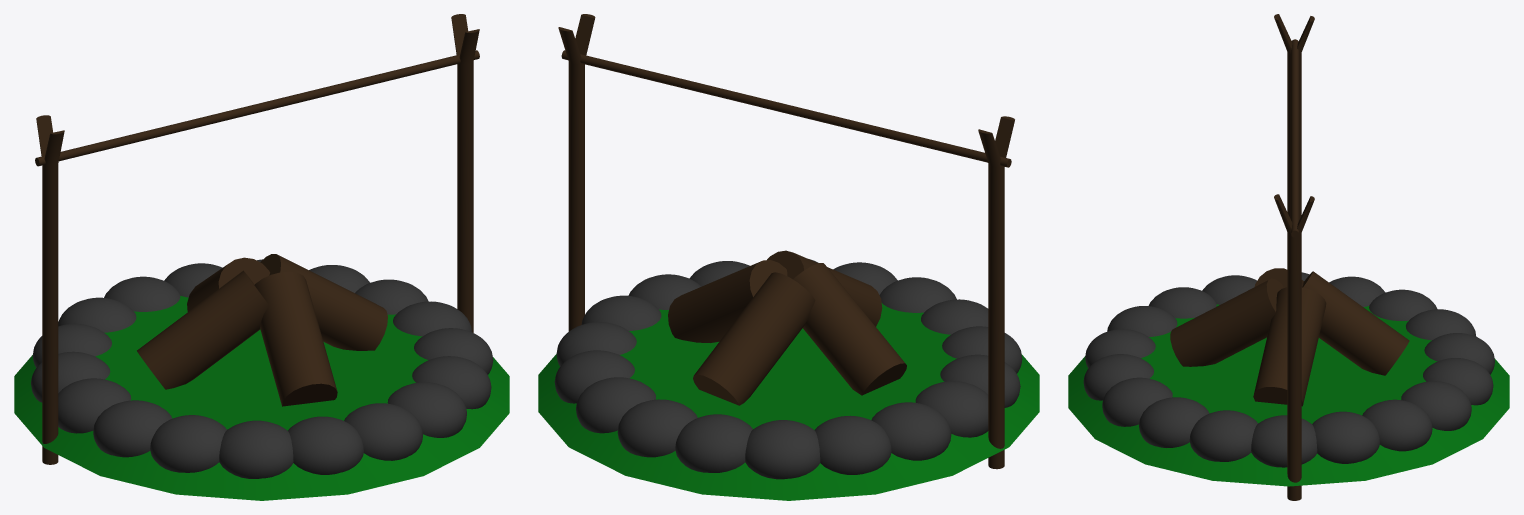
Rendered from campfire.fbx.
3 views of the same model, side by side, from view 1: azimuth 30°, elevation 25°; view 2: azimuth 150°, elevation 25°; view 3: azimuth 270°, elevation 25° (orthographic). The views are drawn at different scales.
Parts seen in each view (by area): view 1: stone, wood, grass; view 2: stone, wood, grass; view 3: stone, grass, wood.
Boxes of the visible parts, x1=… form: stone: x1=31, y1=259, x2=493, y2=478; wood: x1=35, y1=14, x2=479, y2=464; grass: x1=14, y1=296, x2=509, y2=500; stone: x1=554, y1=259, x2=1022, y2=479; wood: x1=558, y1=14, x2=1014, y2=469; grass: x1=538, y1=303, x2=1039, y2=500; stone: x1=1083, y1=272, x2=1494, y2=467; grass: x1=1068, y1=304, x2=1509, y2=486; wood: x1=1170, y1=14, x2=1409, y2=500.
Size of the model in its own units: 153 by 112 by 149.
